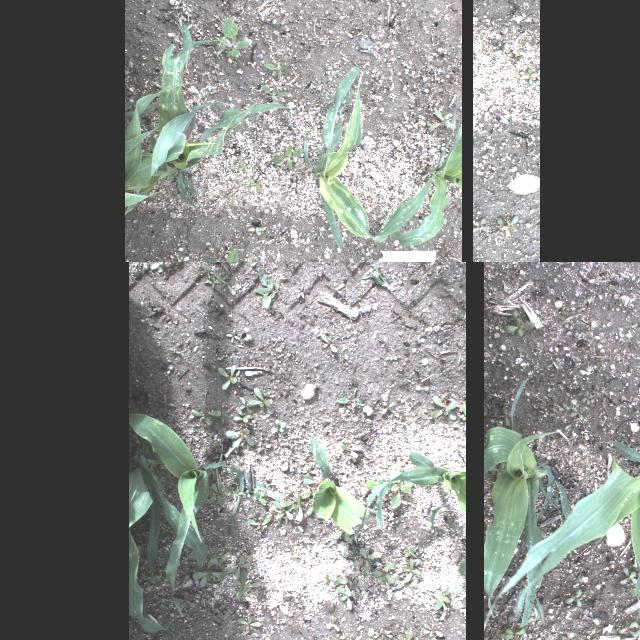crop: (484, 375, 640, 640), (124, 25, 290, 215), (303, 66, 435, 250), (130, 414, 244, 616), (485, 377, 571, 628), (130, 438, 210, 632), (125, 82, 235, 206), (384, 106, 462, 247), (344, 452, 466, 542), (312, 432, 371, 536), (254, 479, 282, 501), (458, 558, 466, 580)
weed: (214, 18, 252, 58), (253, 268, 279, 310), (355, 262, 393, 288), (280, 488, 310, 520), (193, 556, 225, 586), (391, 470, 413, 508), (503, 311, 533, 337), (272, 145, 304, 169), (208, 247, 257, 262), (429, 106, 457, 132), (234, 570, 260, 598), (248, 388, 274, 414), (430, 396, 458, 420), (191, 404, 221, 426), (352, 548, 378, 572), (498, 210, 520, 238), (224, 428, 253, 448), (218, 364, 240, 390), (337, 388, 365, 408), (228, 556, 250, 578), (366, 473, 386, 497), (336, 586, 356, 610), (260, 85, 288, 102), (235, 150, 247, 188), (402, 558, 421, 582), (208, 484, 230, 504), (202, 264, 220, 288), (247, 514, 271, 532), (316, 333, 338, 352), (216, 275, 236, 295), (374, 564, 394, 584), (564, 588, 584, 608), (264, 62, 286, 80), (618, 618, 640, 636), (341, 443, 361, 462), (473, 218, 490, 240), (209, 262, 232, 278), (236, 616, 262, 630), (619, 566, 637, 586), (232, 406, 254, 422), (174, 592, 196, 608), (498, 405, 514, 427), (498, 627, 525, 640), (274, 502, 292, 520), (304, 498, 320, 518), (367, 629, 395, 640), (426, 119, 442, 138), (159, 394, 173, 414), (302, 462, 316, 482), (436, 588, 450, 608), (423, 623, 443, 637), (520, 70, 536, 86), (329, 282, 345, 298), (240, 396, 254, 414), (252, 488, 266, 506), (334, 530, 352, 544), (212, 554, 226, 572), (336, 578, 350, 596), (574, 297, 588, 315), (582, 388, 594, 407), (270, 419, 286, 433), (381, 401, 397, 415), (164, 473, 178, 489), (569, 406, 585, 420), (225, 328, 239, 342), (454, 311, 466, 327), (327, 616, 339, 632), (398, 633, 423, 640), (206, 610, 220, 622), (149, 262, 164, 273), (361, 583, 377, 593), (316, 576, 336, 584), (249, 177, 261, 189), (238, 160, 250, 172), (248, 226, 266, 234), (404, 546, 416, 558), (419, 262, 431, 274), (214, 608, 226, 620), (294, 285, 304, 299), (168, 169, 178, 181), (246, 588, 258, 598), (462, 404, 466, 430), (268, 508, 278, 518), (232, 486, 242, 496), (483, 634, 498, 640), (303, 478, 317, 484), (395, 584, 415, 588), (331, 635, 344, 640), (228, 192, 236, 198), (290, 556, 298, 562), (369, 225, 375, 231), (300, 637, 312, 640), (246, 490, 250, 498), (292, 89, 296, 95), (354, 61, 358, 67), (272, 524, 278, 526)
